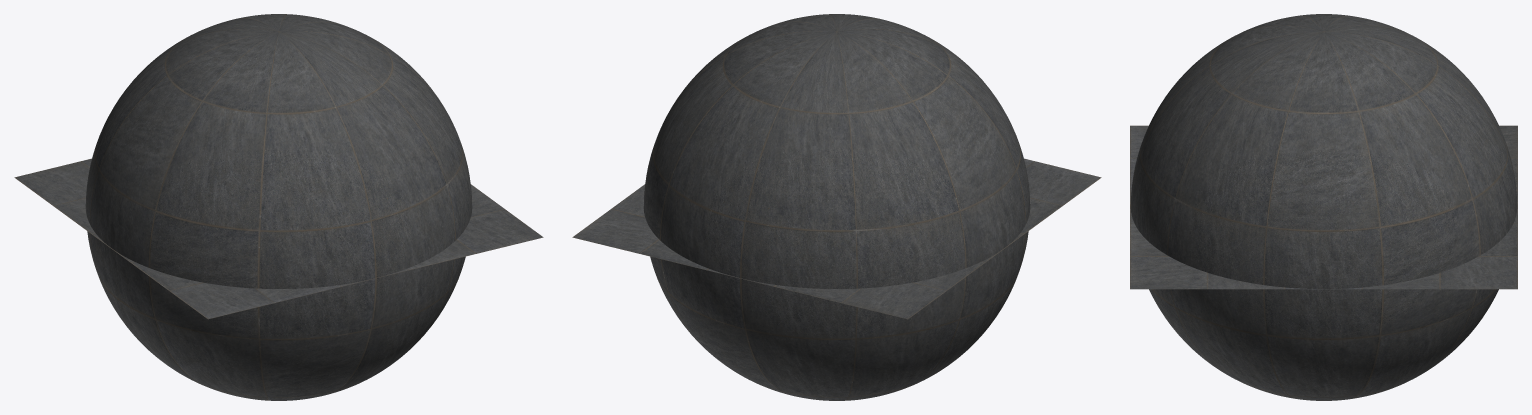
The model's file is granite_tile_2k.fbx.
The picture shows the model from 3 angles, left to right: view 1: azimuth 30°, elevation 25°; view 2: azimuth 150°, elevation 25°; view 3: azimuth 270°, elevation 25°; orthographic projection.
Parts seen in each view (by area): view 1: Sphere, Plane; view 2: Sphere, Plane; view 3: Sphere, Plane.
Boxes of the visible parts, bbox=[...] form: Sphere: bbox=[85, 14, 472, 400]; Plane: bbox=[14, 158, 543, 319]; Sphere: bbox=[643, 14, 1030, 400]; Plane: bbox=[572, 158, 1101, 319]; Sphere: bbox=[1130, 14, 1517, 400]; Plane: bbox=[1130, 125, 1517, 289].
Size of the model in its own units: 230 by 230 by 230.
Materials: 1 (1 with a texture image).
